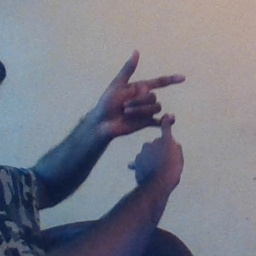S: (87, 45, 194, 187)
